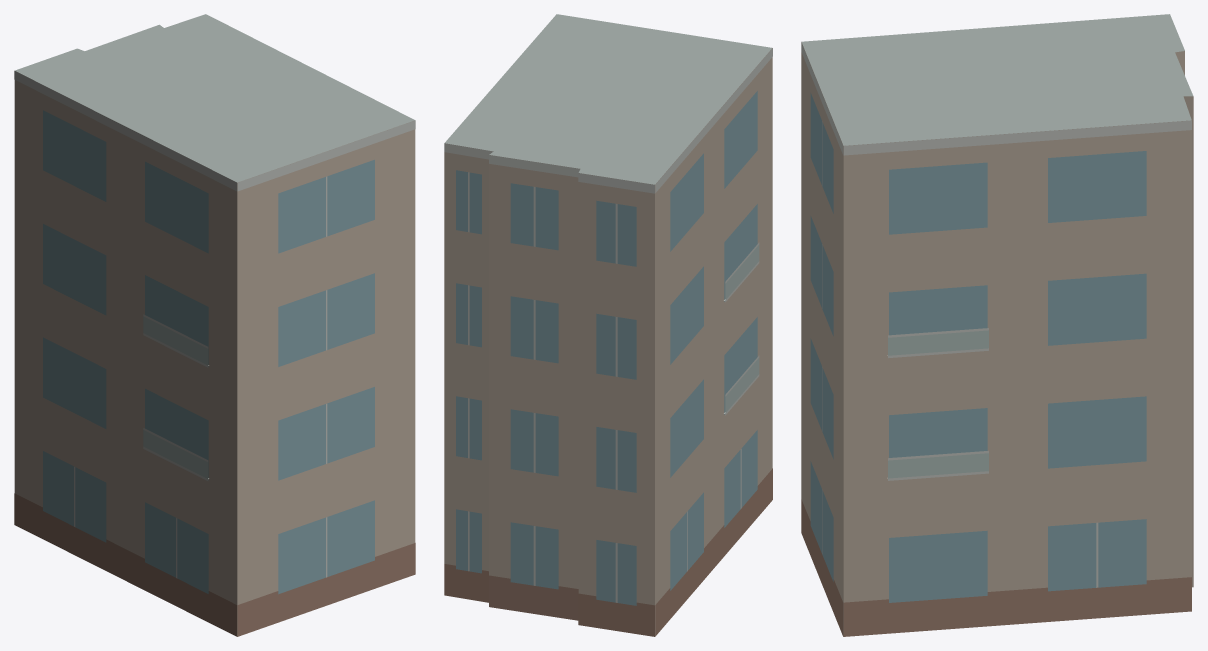
The model's file is survey-upis-32461490.glb.
3 renders of one model, left to right at view 1: azimuth 30°, elevation 25°; view 2: azimuth 150°, elevation 25°; view 3: azimuth 270°, elevation 25°, orthographic. The views are drawn at different scales.
Visible parts, largest first — view 1: survey-upis-32461490.tmp; view 2: survey-upis-32461490.tmp; view 3: survey-upis-32461490.tmp.
Part boxes in pixels (x1=…): survey-upis-32461490.tmp: x1=14, y1=14, x2=415, y2=636; survey-upis-32461490.tmp: x1=444, y1=14, x2=772, y2=636; survey-upis-32461490.tmp: x1=801, y1=14, x2=1193, y2=636.
Bounding box in the file's own units: 7.11 × 12.34 × 8.94.
